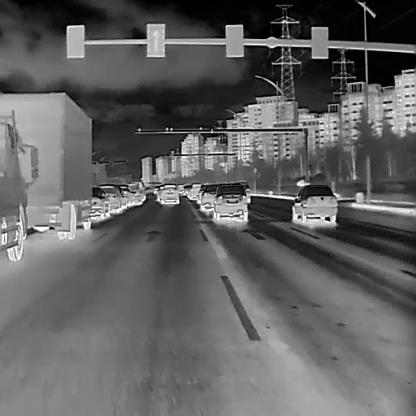car: (290, 182, 336, 224), (213, 182, 247, 221), (96, 182, 122, 213), (90, 184, 110, 219), (200, 184, 219, 210), (162, 183, 179, 203), (126, 182, 142, 203), (118, 184, 132, 206), (188, 183, 203, 199), (155, 185, 163, 201), (177, 183, 183, 193)
truck: (0, 91, 92, 239), (0, 113, 39, 262)
